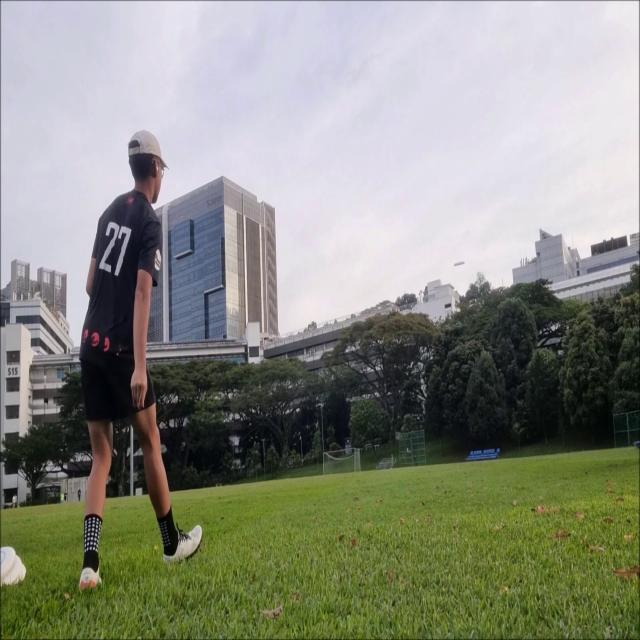disc: (453, 260, 465, 267)
